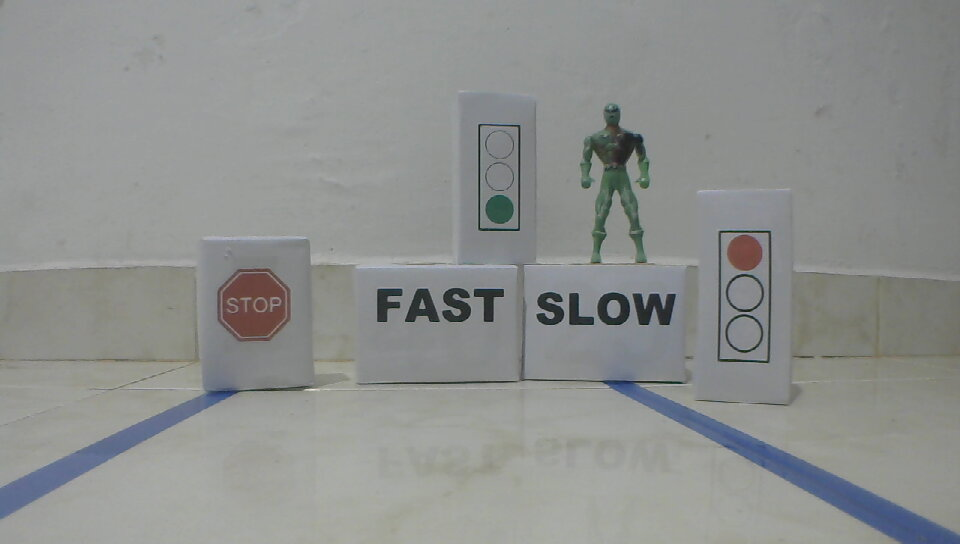Fast: (374, 285, 508, 325)
Green Traffic Light: (475, 119, 522, 233)
Person: (576, 102, 654, 267)
Red Traffic Light: (715, 229, 773, 367)
Slow: (533, 289, 680, 328)
Stop Sign: (216, 268, 292, 343)
